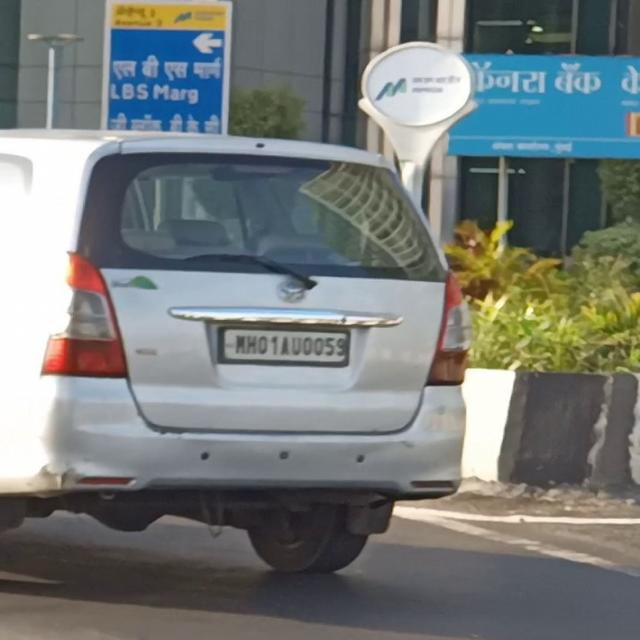Plate: (223, 330, 351, 364)
